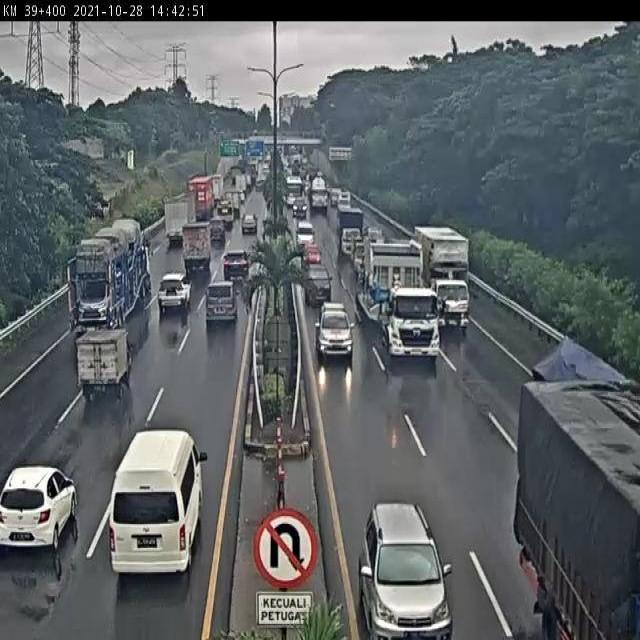big truck: (359, 235, 440, 356), (66, 216, 150, 331), (412, 225, 469, 328)
car: (358, 494, 450, 640), (0, 467, 76, 545), (316, 300, 353, 353), (302, 265, 333, 308), (204, 277, 234, 320), (160, 272, 191, 308), (222, 250, 250, 278), (303, 244, 325, 271)
mid truck: (336, 208, 369, 264)
small bus: (107, 431, 209, 577)
small truck: (75, 325, 133, 392)
truck-m-: (183, 219, 212, 265)
